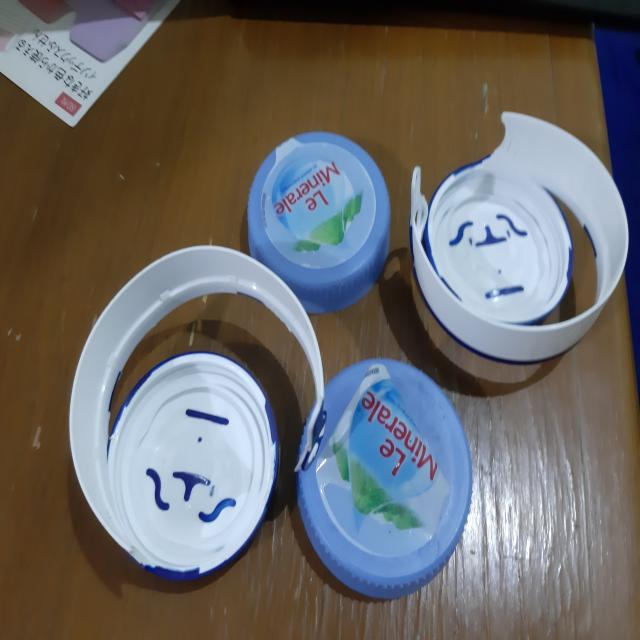TutupGalon: (70, 245, 322, 584), (411, 103, 628, 360), (298, 354, 473, 597), (244, 128, 396, 320)
